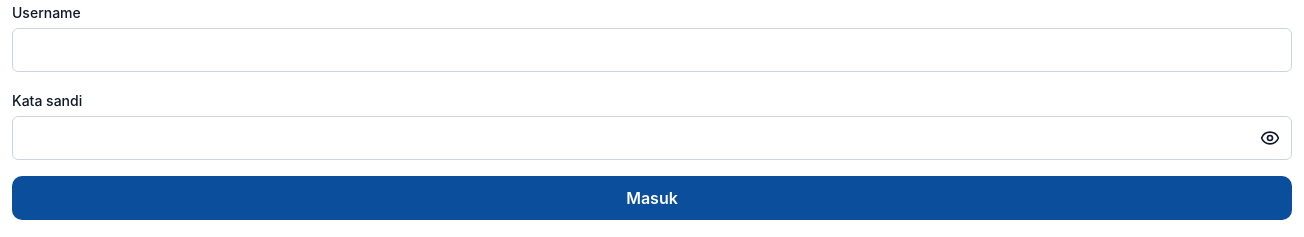
it: FormLogin › menunjukkan keadaan memuat: tombol nonaktif, aria-busy, dan label Memproses
This screenshot has width=1304, height=237.
Type "admin" into the field labelled "Username". click: (652, 50)
box: x1=12 y1=28 x2=1292 y2=72
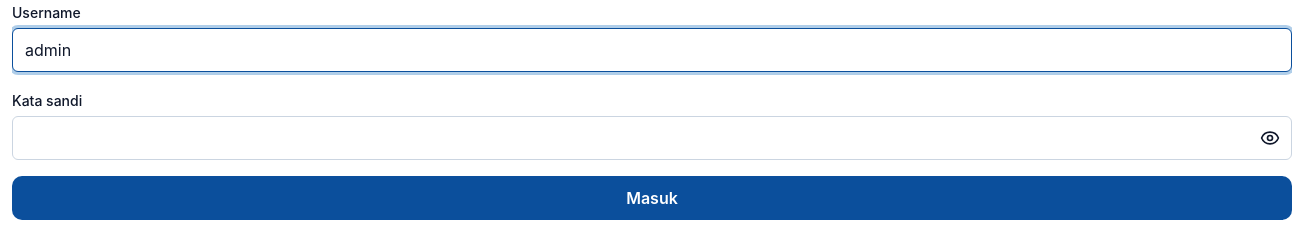
Type "rahasia" into the password field labelled "Kata sandi". click: (652, 138)
box: x1=12 y1=116 x2=1292 y2=160
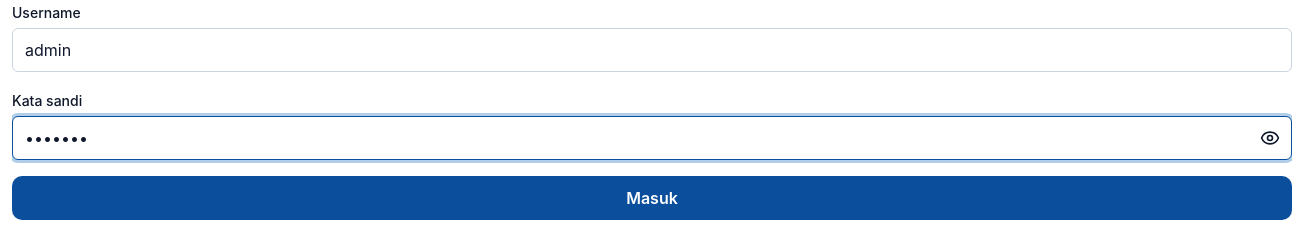
Click the button "Masuk". click: (652, 198)
box: x1=12 y1=176 x2=1292 y2=220
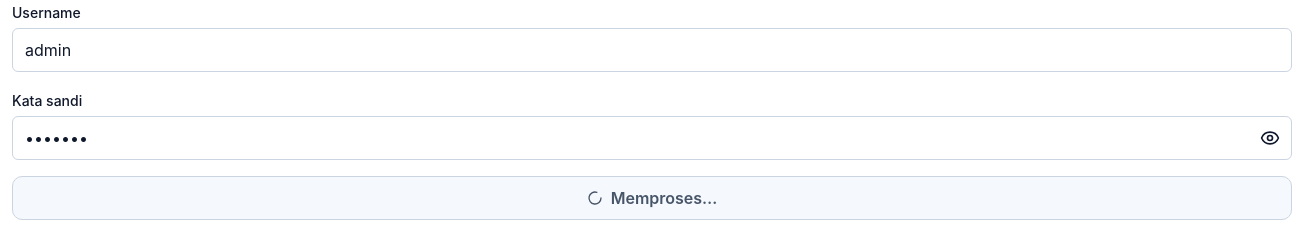
Check: the button "Memproses…" is disabled, box x1=12 y1=176 x2=1292 y2=220
